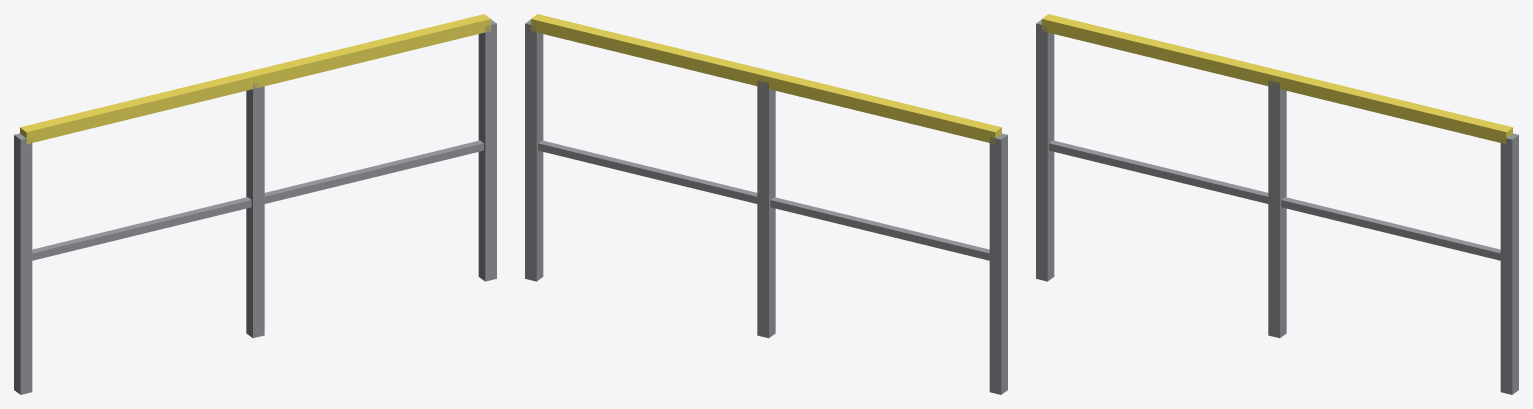
File: railing_2m.glb
3 views of the same model, side by side, from view 1: azimuth 30°, elevation 25°; view 2: azimuth 150°, elevation 25°; view 3: azimuth 330°, elevation 25° (orthographic).
Visible parts, largest first — view 1: railing_2m; view 2: railing_2m; view 3: railing_2m.
Part boxes in pixels (<box>): railing_2m: <box>14,14,496,394</box>; railing_2m: <box>525,14,1007,394</box>; railing_2m: <box>1036,14,1518,394</box>.
Size of what is drawn, in the model's own units: 2.05 by 1.07 by 0.05.
